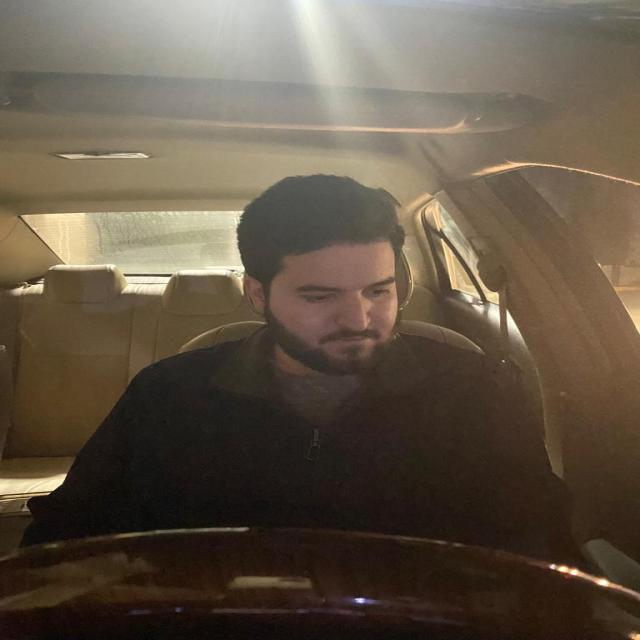person: (237, 174, 408, 374)
